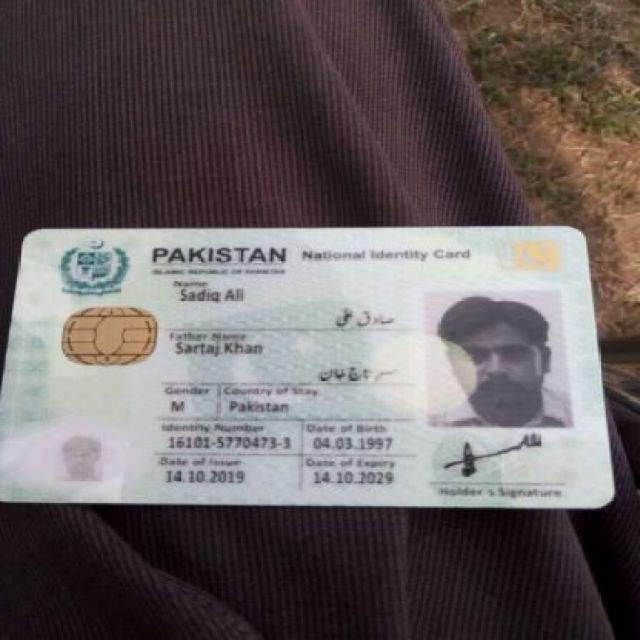Front: (5, 224, 620, 518)
